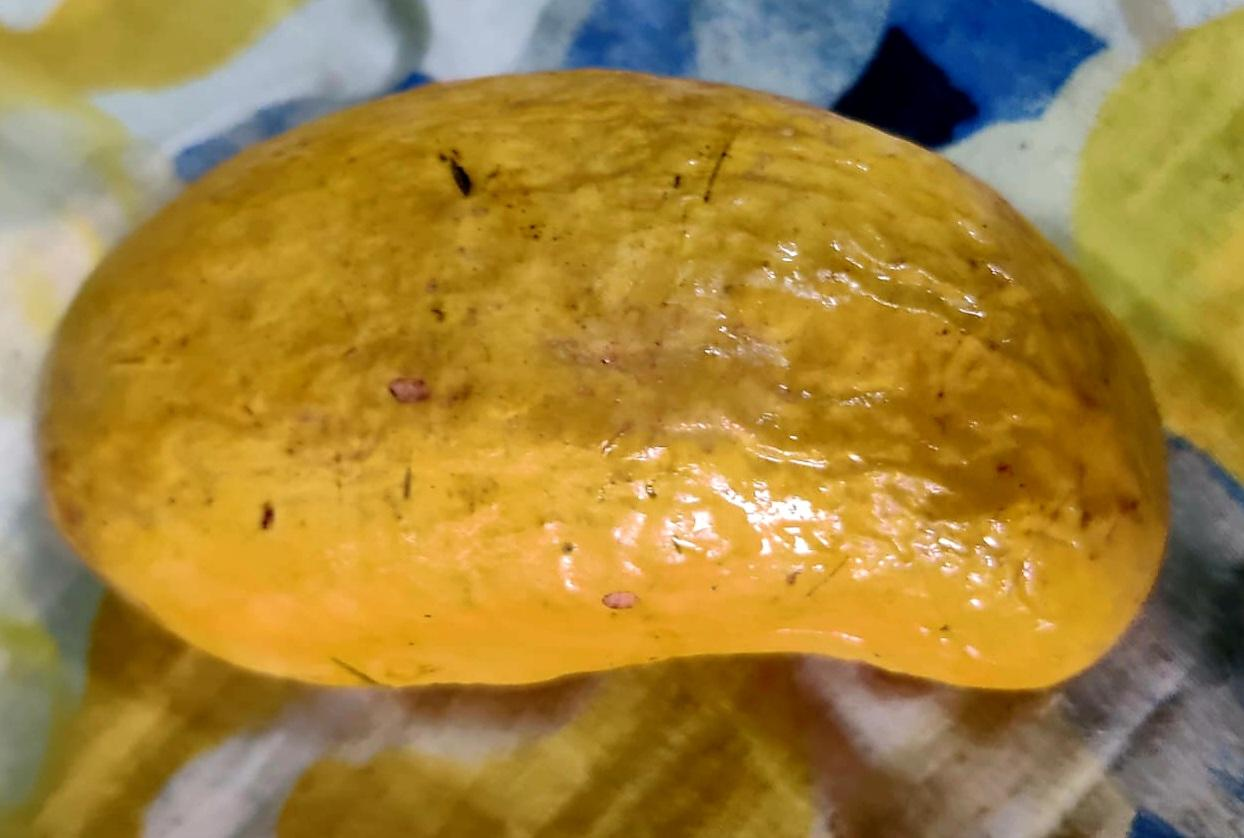mango: (35, 66, 1172, 694)
